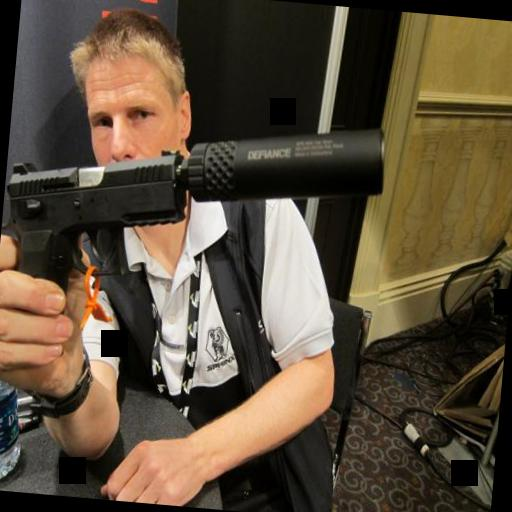Handgun: (0, 129, 191, 306)
